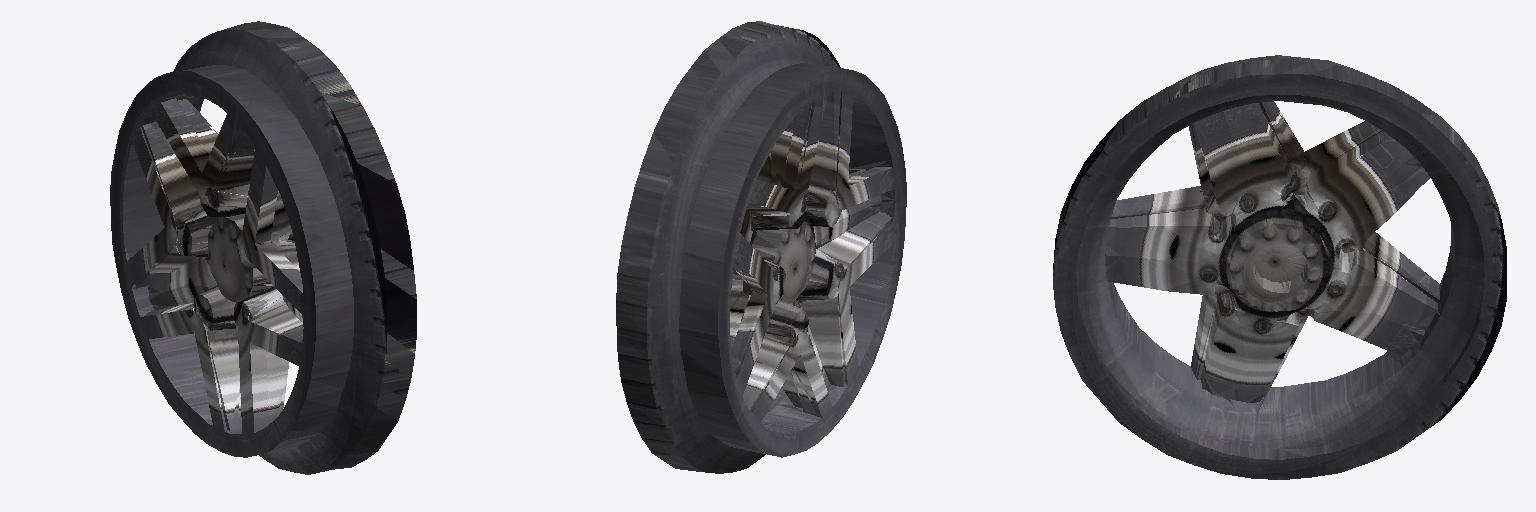
The picture shows the model from 3 angles: view 1: azimuth 30°, elevation 25°; view 2: azimuth 150°, elevation 25°; view 3: azimuth 270°, elevation 25°; orthographic projection.
Visible parts, largest first — view 1: opala; view 2: opala; view 3: opala.
Part boxes in pixels (x1,y1,x2,y2): opala: (110,21,416,474); opala: (616,21,906,473); opala: (1053,55,1506,479).
Size of the model in its own units: 2.55 by 9.87 by 9.85.
1 materials, 1 textured.